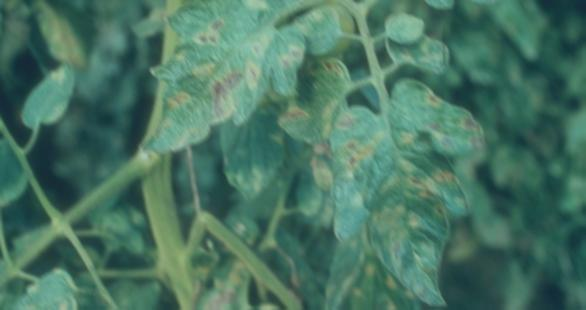Tomato mold leaf: (327, 80, 485, 310), (127, 0, 338, 157), (18, 57, 77, 139), (0, 269, 87, 310), (381, 13, 428, 51)
